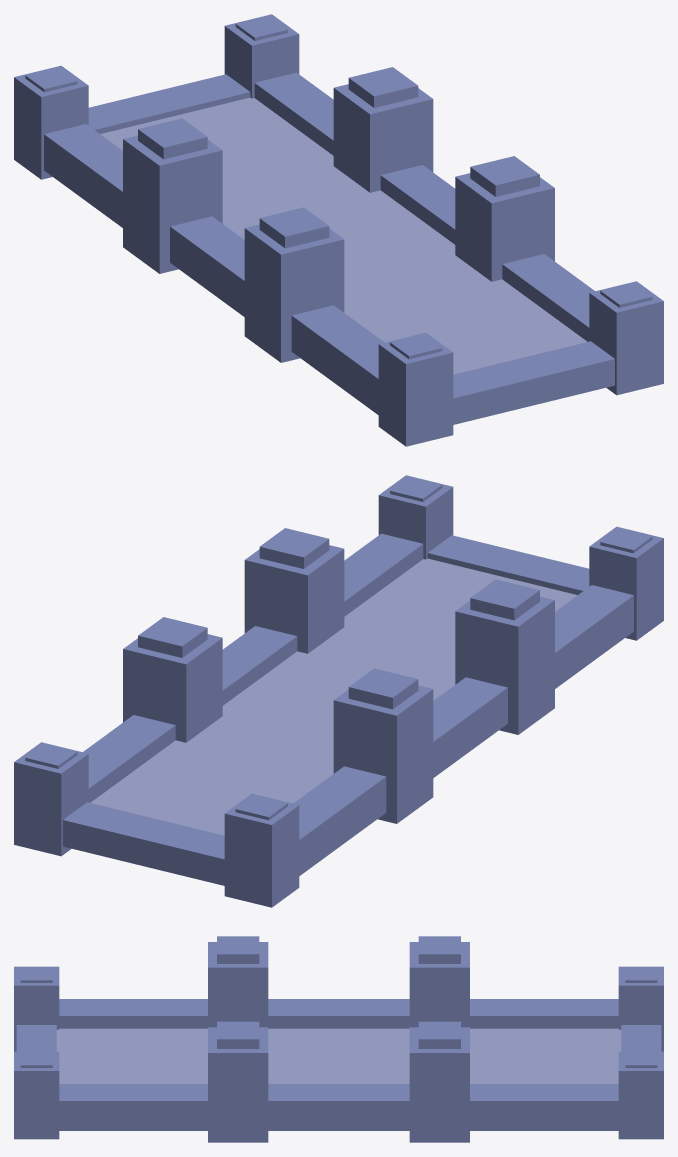
Rendered from bridge_1a_1.fbx.
3 renders of one model, top to bottom at view 1: azimuth 30°, elevation 25°; view 2: azimuth 150°, elevation 25°; view 3: azimuth 270°, elevation 25°, orthographic. The views are drawn at different scales.
Visible parts, largest first — view 1: bridge_1a_1; view 2: bridge_1a_1; view 3: bridge_1a_1.
Part boxes in pixels (box(x1,y1,x2,y2)): bridge_1a_1: box(14, 14, 663, 446); bridge_1a_1: box(14, 475, 663, 907); bridge_1a_1: box(14, 936, 663, 1142).
Size of the model in its own units: 10.4 by 4.35 by 25.8.
